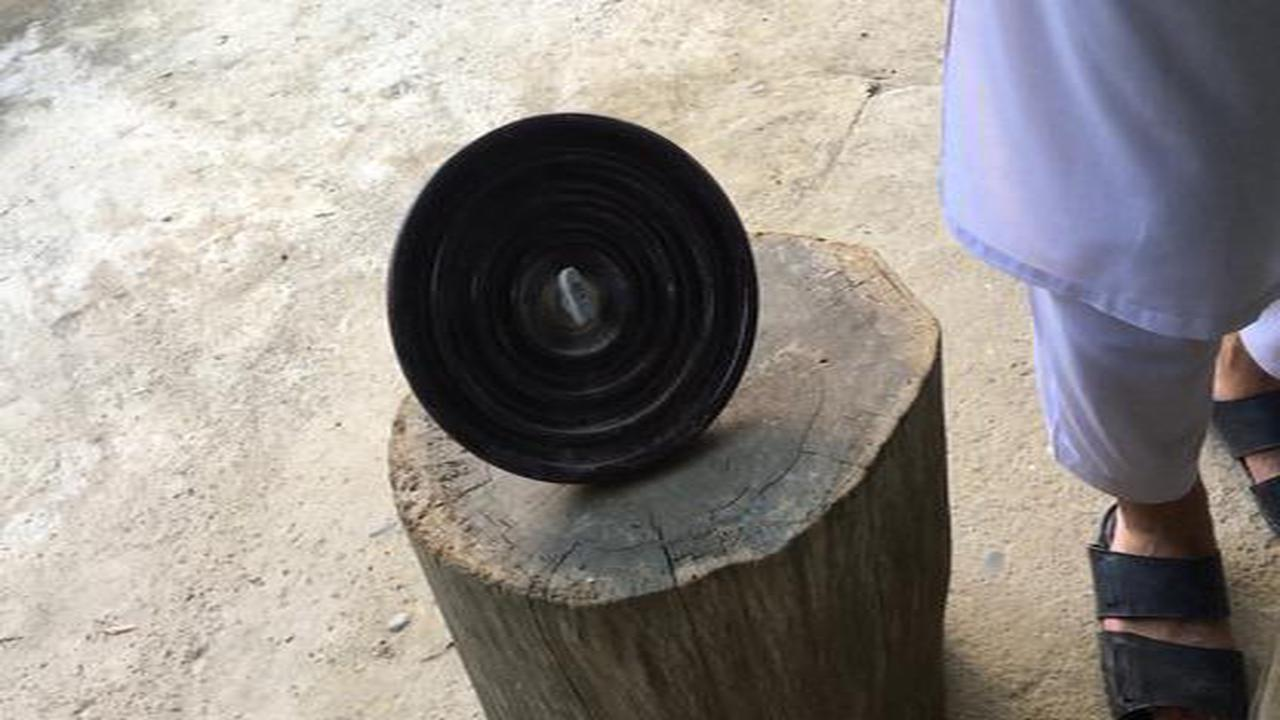insulator_disc: (383, 110, 766, 491)
